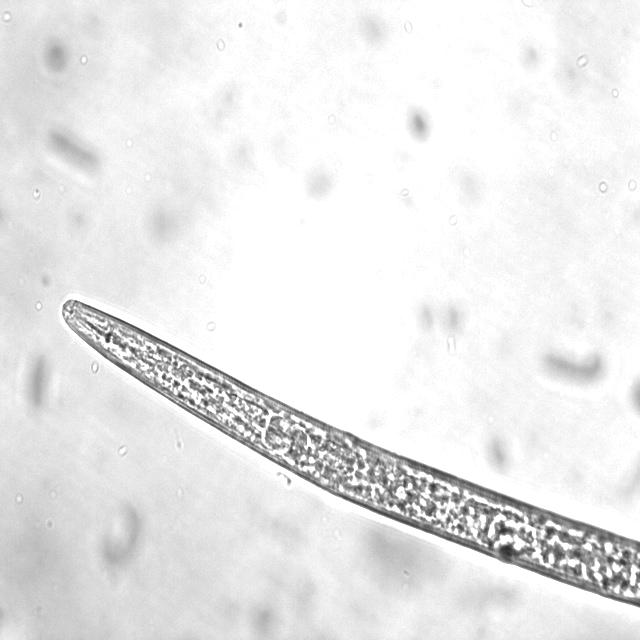Meloidogyne: (60, 296, 640, 600)
